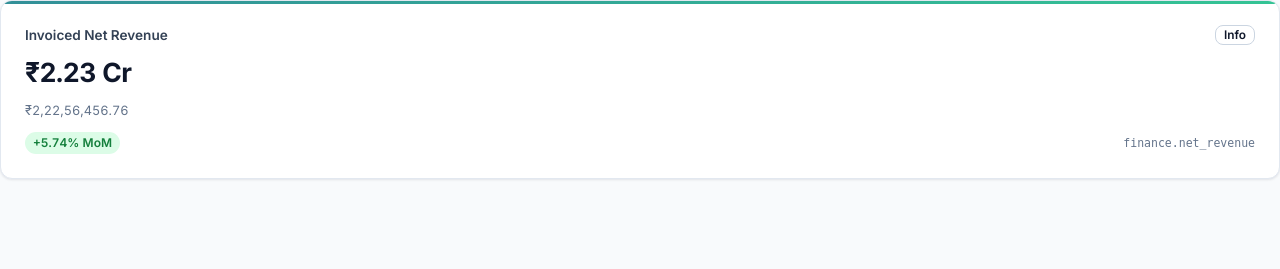
Test: KpiCard › renders KPI figure, MoM badge, and toggles definition/basis panel
This screenshot has width=1280, height=269.
Expected: the text "Invoiced Net Revenue" is shown, [25, 25, 168, 45]
Expected: the text "₹2.23 Cr" is shown, [25, 56, 132, 88]
Click the button "Info".
click(1235, 35)  # box [1215, 25, 1255, 45]
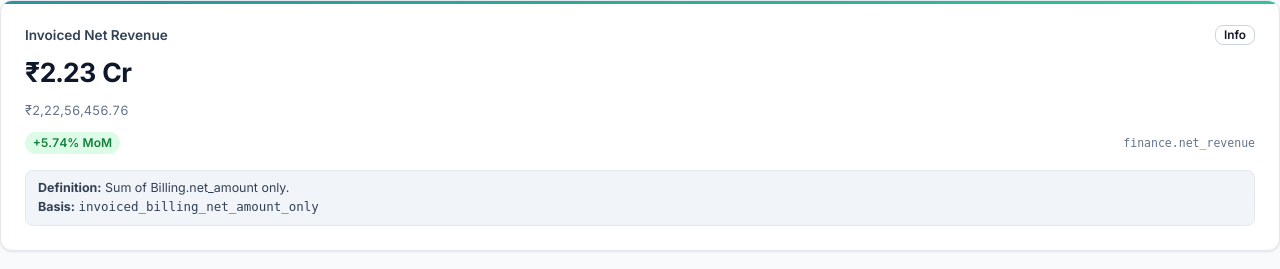
Result: the text "Definition: Sum of Billing.net_amount only." is shown at [38, 180, 289, 195]
Result: the text "invoiced_billing_net_amount_only" is shown at [78, 199, 319, 214]
